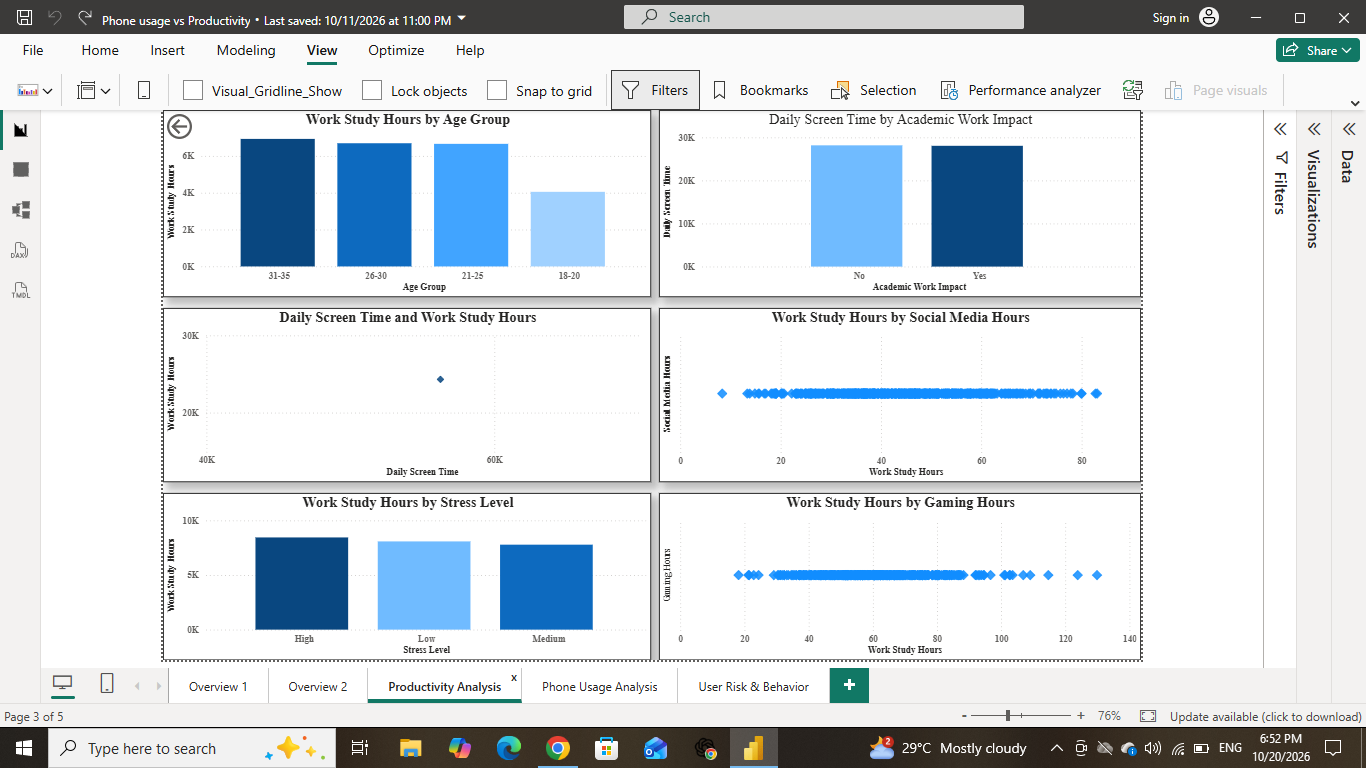

The dashboard page shown, as its layout file describes it:
{"tool":"powerbi","page":{"name":"Productivity Analysis","canvas":[1280,720],"ordinal":2},"visuals":[{"type":"clusteredColumnChart","title":"Work Study Hours by Age Group","fields":{"Category":["Smartphone_Usage_And_Addiction_Analysis.Age Group"],"Y":["Sum(Smartphone_Usage_And_Addiction_Analysis.Work Study Hours)"]},"box":[0,0,639.4,244.8],"z":0},{"type":"scatterChart","title":"Daily Screen Time and Work Study Hours","fields":{"X":["Sum(Smartphone_Usage_And_Addiction_Analysis.Daily Screen Time)"],"Y":["Sum(Smartphone_Usage_And_Addiction_Analysis.Work Study Hours)"]},"box":[0,259.2,639.4,227.5],"z":1000},{"type":"clusteredColumnChart","title":"Work Study Hours by Stress Level","fields":{"Category":["Smartphone_Usage_And_Addiction_Analysis.Stress Level"],"Y":["Sum(Smartphone_Usage_And_Addiction_Analysis.Work Study Hours)"]},"box":[0,501.1,639.4,218.9],"z":2000},{"type":"clusteredColumnChart","title":"Daily Screen Time by Academic Work Impact","fields":{"Category":["Smartphone_Usage_And_Addiction_Analysis.Academic Work Impact"],"Y":["Sum(Smartphone_Usage_And_Addiction_Analysis.Daily Screen Time)"]},"box":[649,0,631,245],"z":3000},{"type":"scatterChart","title":"Work Study Hours by Social Media Hours","fields":{"Category":["Smartphone_Usage_And_Addiction_Analysis.Social Media Hours"],"X":["Sum(Smartphone_Usage_And_Addiction_Analysis.Work Study Hours)"]},"box":[649,259,631,228],"z":4000},{"type":"scatterChart","title":"Work Study Hours by Gaming Hours","fields":{"Category":["Smartphone_Usage_And_Addiction_Analysis.Gaming Hours"],"X":["Sum(Smartphone_Usage_And_Addiction_Analysis.Work Study Hours)"]},"box":[649,501,631,219],"z":5000},{"type":"actionButton","box":[0,0,44.6,43.2],"z":6000}]}

Visuals, with their boxes on the page's 1280x720 design canvas (x1, y1, x2, y2). These are canvas units, not pixel positions in the 1366x768 screenshot, which may show the page scaled, cropped or inside an application window:
"Work Study Hours by Age Group" clusteredColumnChart: 0:0:639:245
"Daily Screen Time and Work Study Hours" scatterChart: 0:259:639:487
"Work Study Hours by Stress Level" clusteredColumnChart: 0:501:639:720
"Daily Screen Time by Academic Work Impact" clusteredColumnChart: 649:0:1280:245
"Work Study Hours by Social Media Hours" scatterChart: 649:259:1280:487
"Work Study Hours by Gaming Hours" scatterChart: 649:501:1280:720
actionButton: 0:0:45:43
